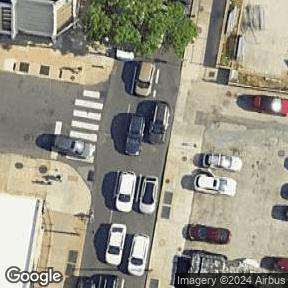vegetation: (82, 1, 197, 57)
